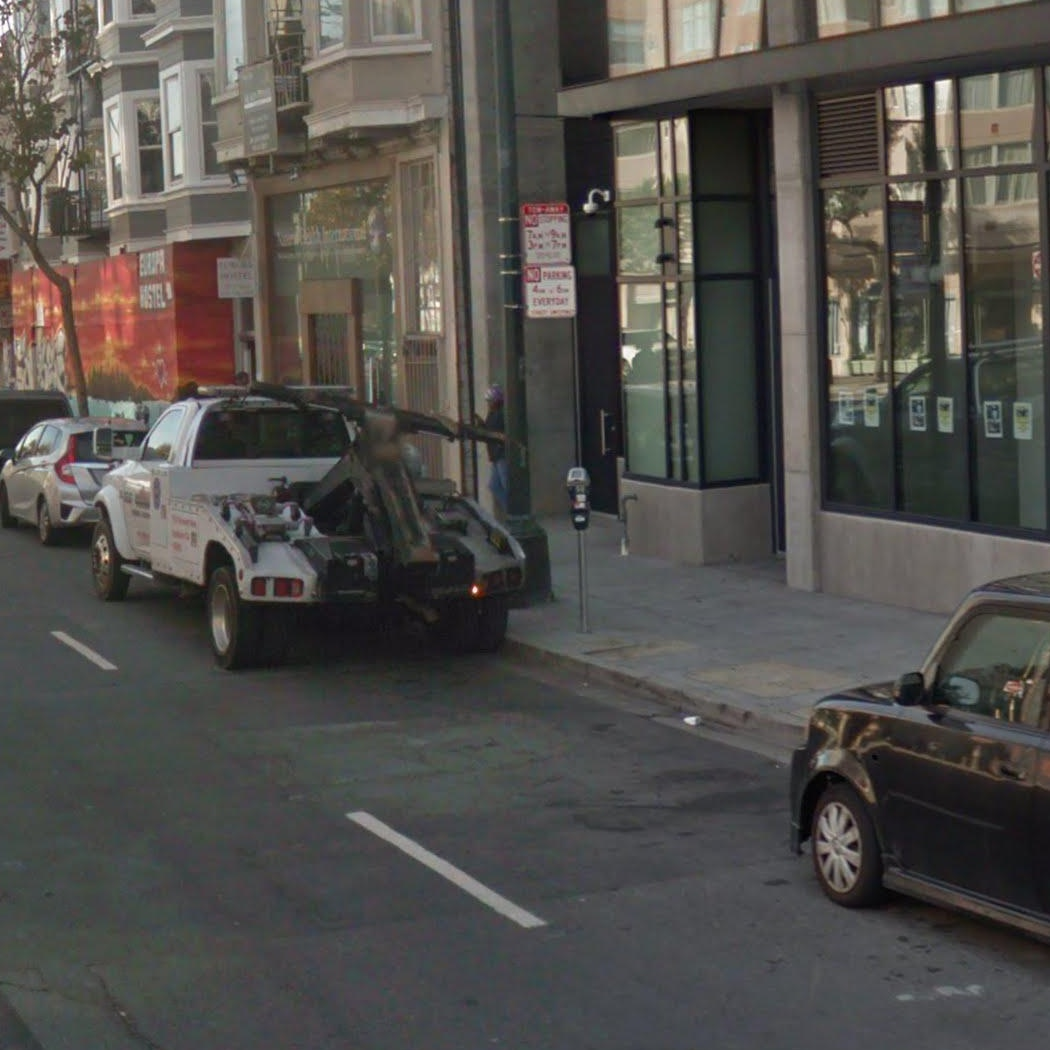No Parking: (516, 201, 574, 266), (521, 264, 577, 321)
